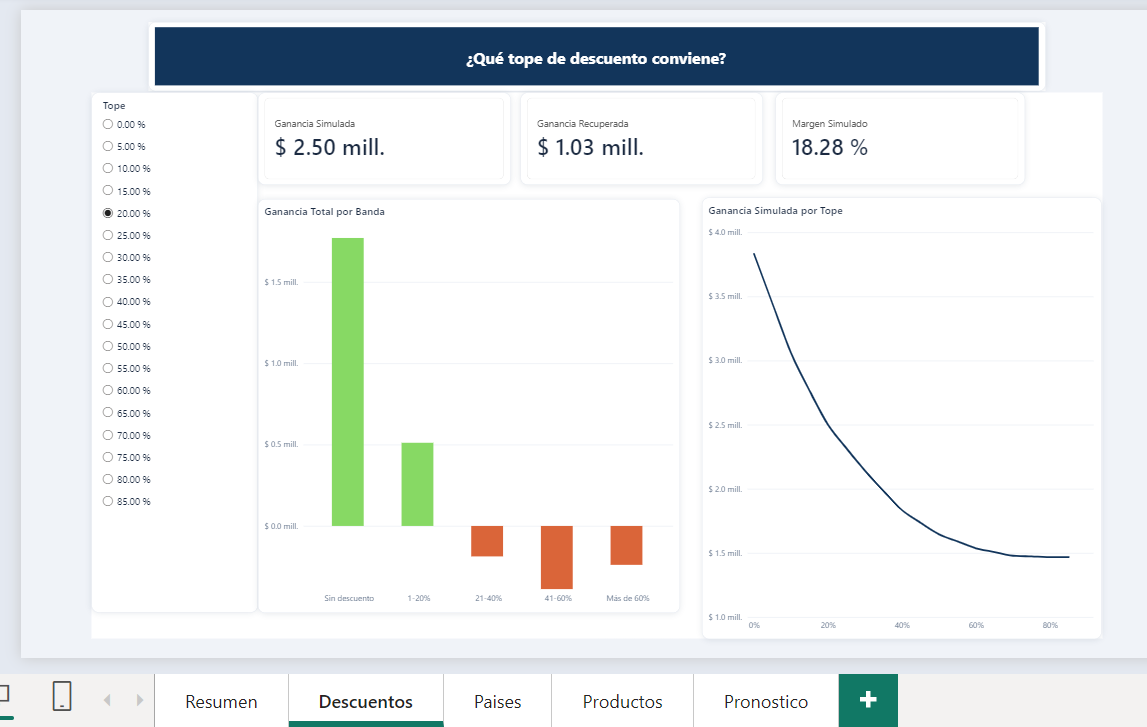

What the dashboard file says about the page in this screenshot:
{"tool":"powerbi","page":{"name":"Descuentos","canvas":[1920,1080],"ordinal":1},"visuals":[{"type":"slicer","fields":{"Values":["Tope Descuento.Tope"]},"box":[77.3,140.1,147.4,716.4],"z":0},{"type":"cardVisual","fields":{"Data":["Fact_Ventas.Ganancia Simulada"]},"box":[361.8,58.4,427.5,172.2],"z":1000},{"type":"cardVisual","fields":{"Data":["Fact_Ventas.Ganancia Recuperada"]},"box":[818.5,58.4,427.5,172.2],"z":2000},{"type":"cardVisual","fields":{"Data":["Fact_Ventas.Margen Simulado"]},"box":[1275.1,58.4,427.5,172.2],"z":3000},{"type":"clusteredColumnChart","fields":{"Category":["Dim_Banda_Descuento.Banda"],"Y":["Fact_Ventas.Ganancia Total"]},"box":[415.8,274.3,592.3,663.8],"z":3001},{"type":"lineChart","fields":{"Category":["Tope Descuento.Tope"],"Y":["Fact_Ventas.Ganancia Simulada"]},"box":[1053.4,274.3,592.3,663.8],"z":3002}]}

Visuals, with their boxes on the page's 1920x1080 design canvas (x1, y1, x2, y2). These are canvas units, not pixel positions in the 1147x727 screenshot, which may show the page scaled, cropped or inside an application window:
slicer - Tope Descuento.Tope: x1=77 y1=140 x2=225 y2=856
cardVisual - Fact_Ventas.Ganancia Simulada: x1=362 y1=58 x2=789 y2=231
cardVisual - Fact_Ventas.Ganancia Recuperada: x1=818 y1=58 x2=1246 y2=231
cardVisual - Fact_Ventas.Margen Simulado: x1=1275 y1=58 x2=1703 y2=231
clusteredColumnChart - Dim_Banda_Descuento.Banda x Fact_Ventas.Ganancia Total: x1=416 y1=274 x2=1008 y2=938
lineChart - Tope Descuento.Tope x Fact_Ventas.Ganancia Simulada: x1=1053 y1=274 x2=1646 y2=938
